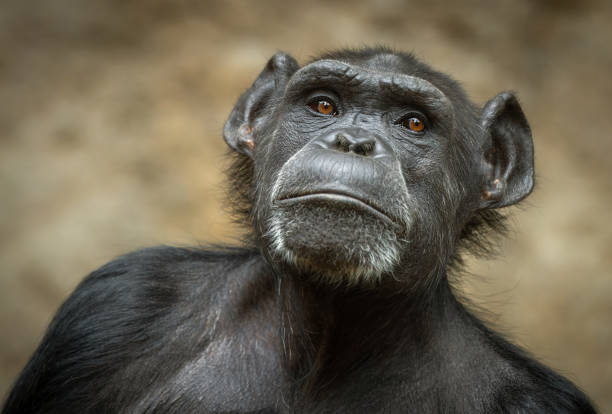chimpanzee: (195, 30, 589, 352)
